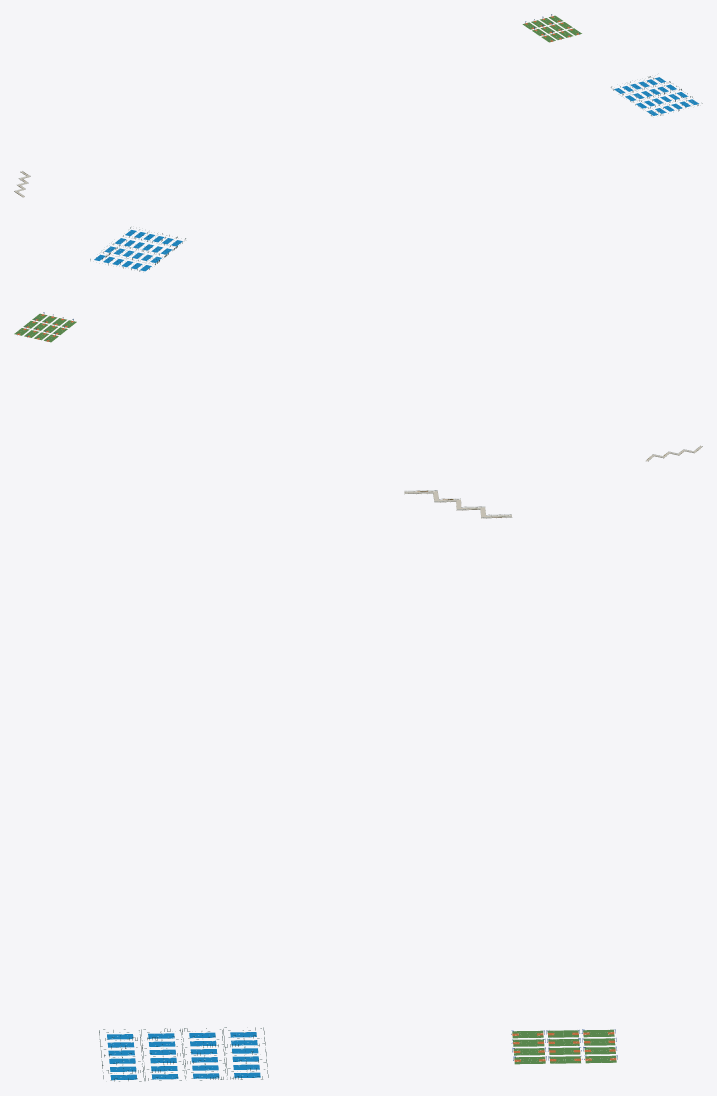
File: SEU_building_patch_v12.glb
The picture shows the model from 3 angles, top to bottom: view 1: azimuth 30°, elevation 25°; view 2: azimuth 150°, elevation 25°; view 3: azimuth 270°, elevation 25°; orthographic projection. The views are drawn at different scales.
Size of the model in its own units: 1263 by 5.46 by 469.
